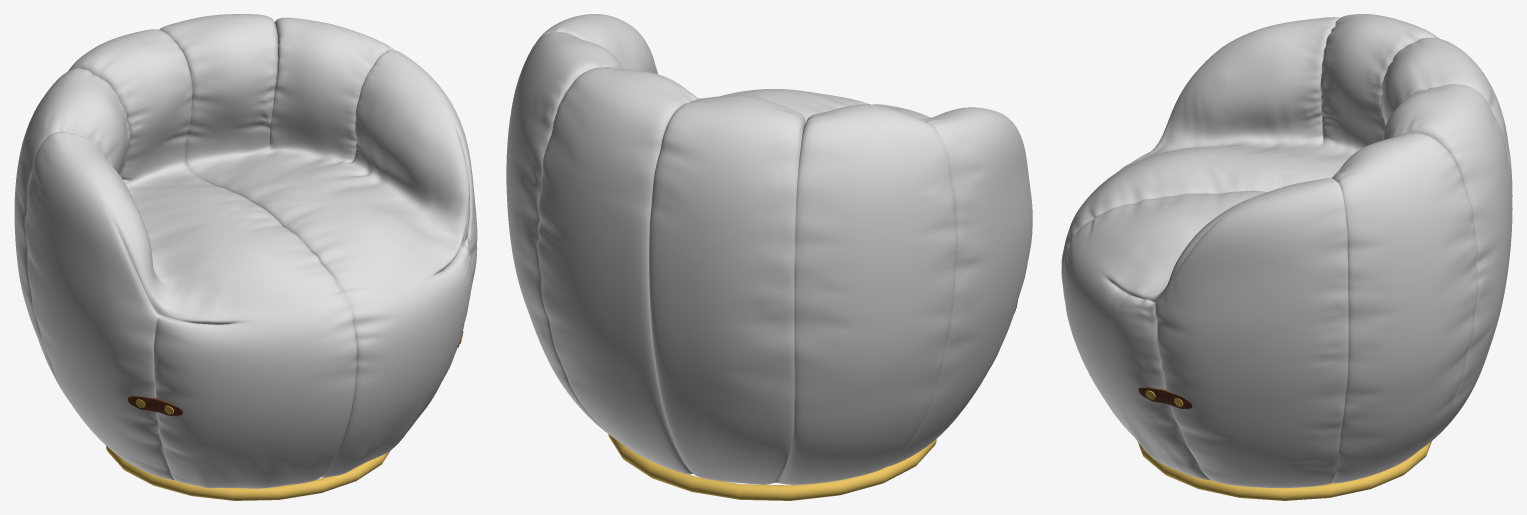
Rendered from SLN_Little_Pug.glb.
The picture shows the model from 3 angles, left to right: view 1: azimuth 30°, elevation 25°; view 2: azimuth 150°, elevation 25°; view 3: azimuth 270°, elevation 25°; orthographic projection. The views are drawn at different scales.
Parts seen in each view (by area): view 1: Little_Pug; view 2: Little_Pug; view 3: Little_Pug.
Boxes of the visible parts, bbox=[...] form: Little_Pug: bbox=[14, 14, 477, 500]; Little_Pug: bbox=[506, 14, 1032, 500]; Little_Pug: bbox=[1061, 14, 1512, 500].
Bounding box in the file's own units: 0.8707 × 0.7439 × 0.8356.
